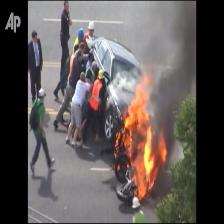fire: (117, 79, 177, 201)
nofire: (90, 76, 106, 123)
smoke: (138, 1, 194, 85)
